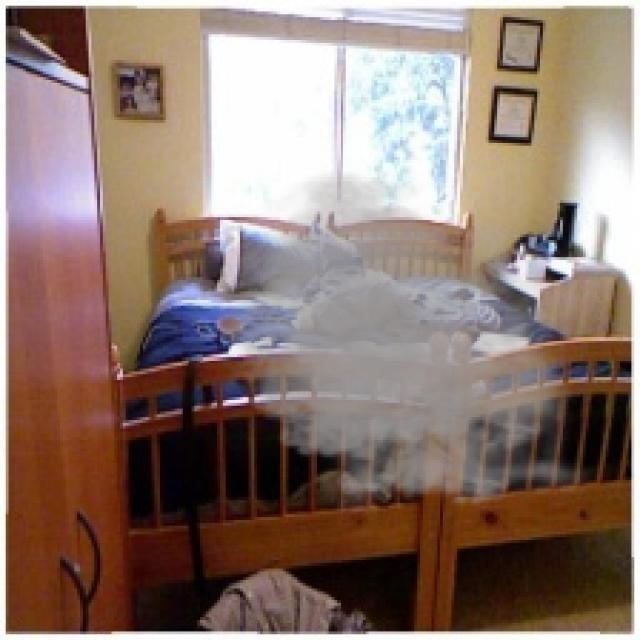Smoke: (203, 160, 603, 523)
